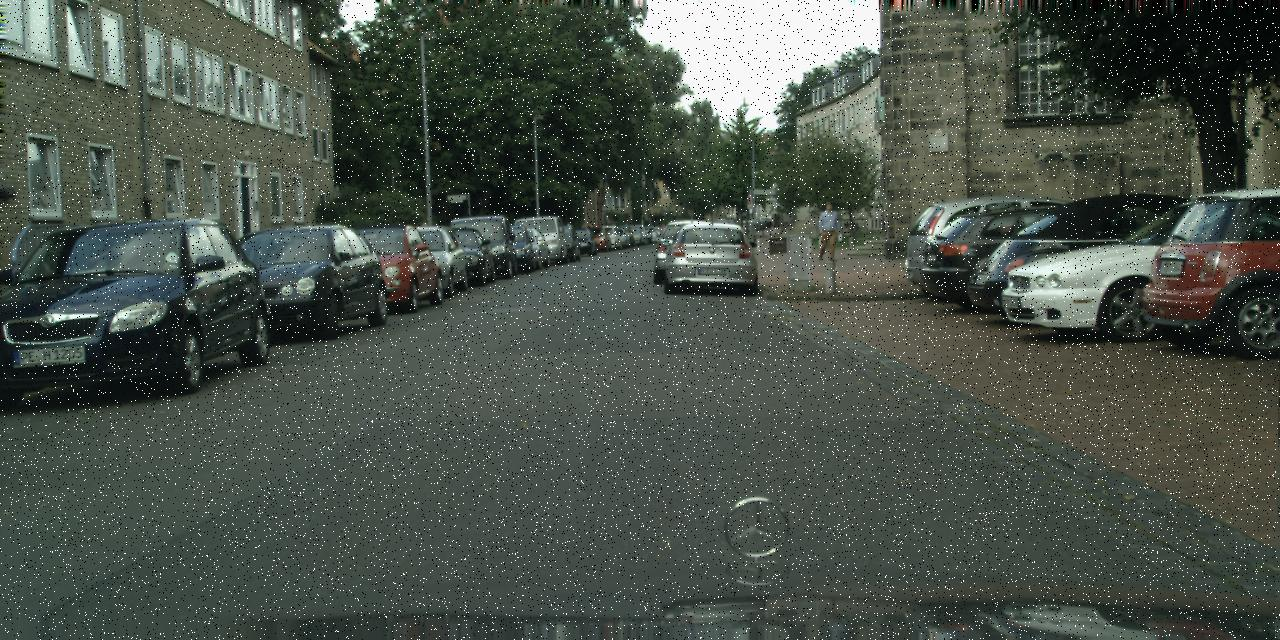ped: (814, 201, 838, 260), (659, 223, 666, 243)
